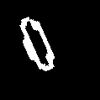chain: (20, 17, 53, 70)
